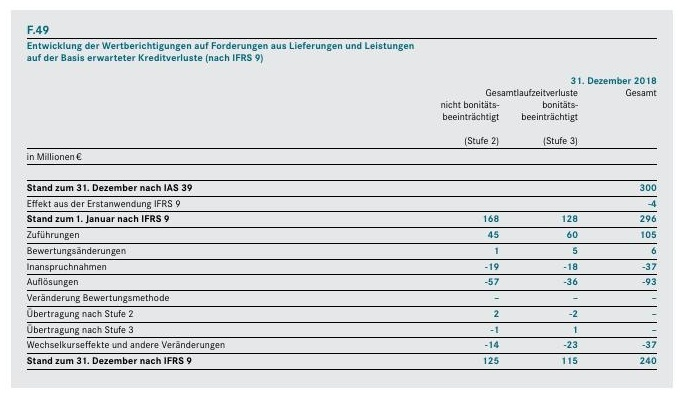table: (0, 0, 685, 401)
